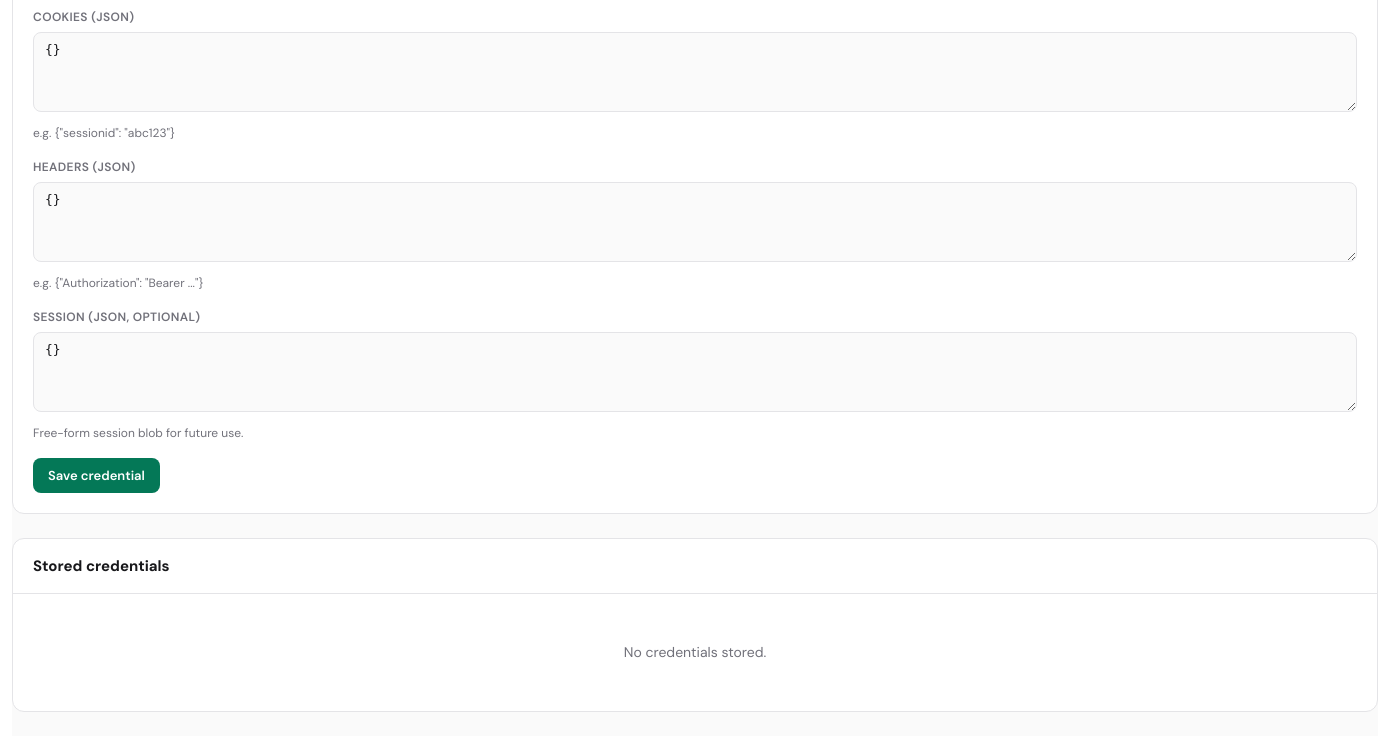
Test case: CredentialsPage › errors when the form renders but no source resolves to an id
(page scrolled)
Click the button "Save credential" at (96, 475), box [33,458,160,492]
(page scrolled)
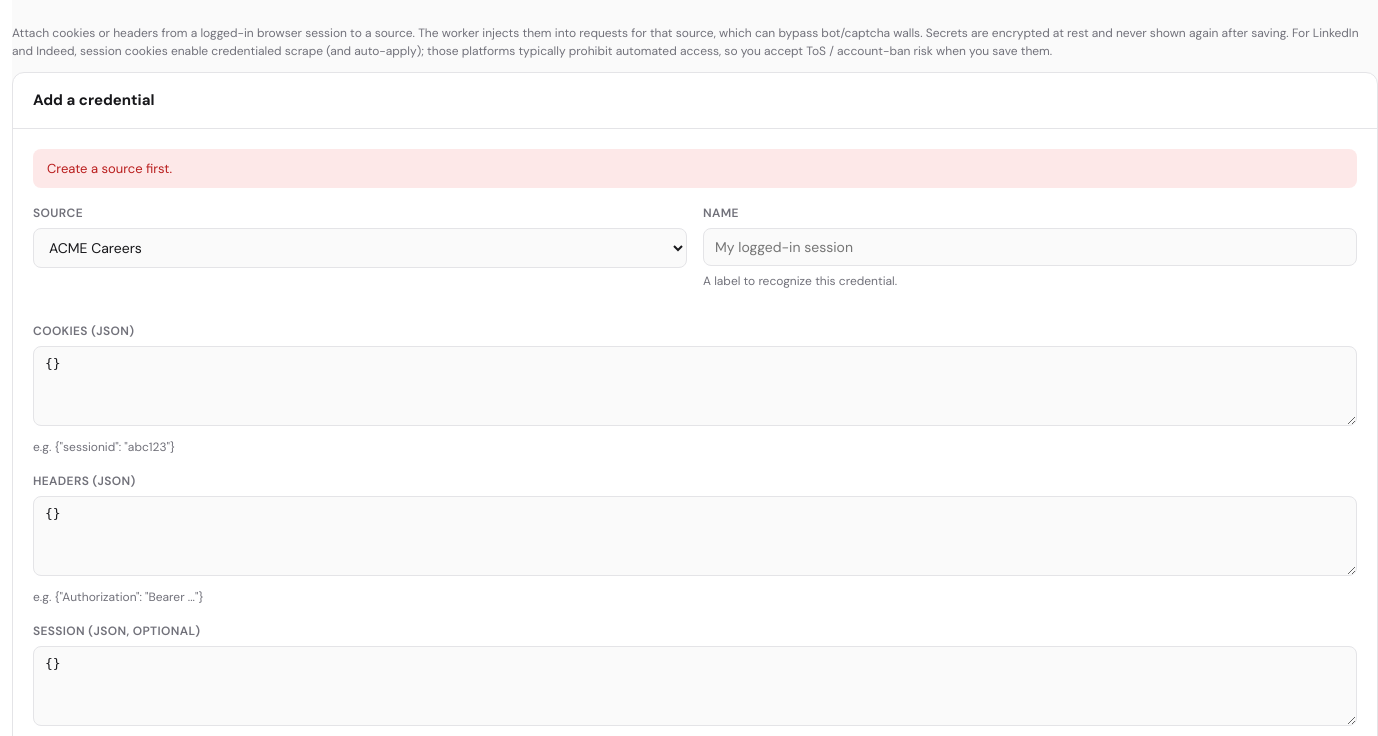
expect the text "Create a source first." is shown: met, box [33,148,1357,188]
